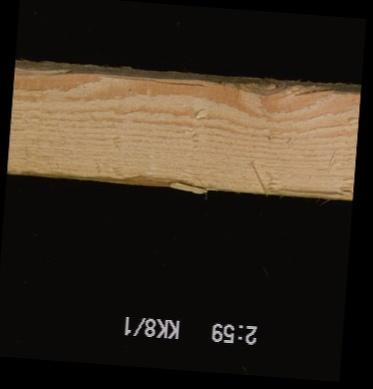split: (18, 165, 223, 183), (266, 180, 352, 197), (104, 76, 209, 85)
wave: (214, 78, 335, 102), (14, 61, 81, 79)
